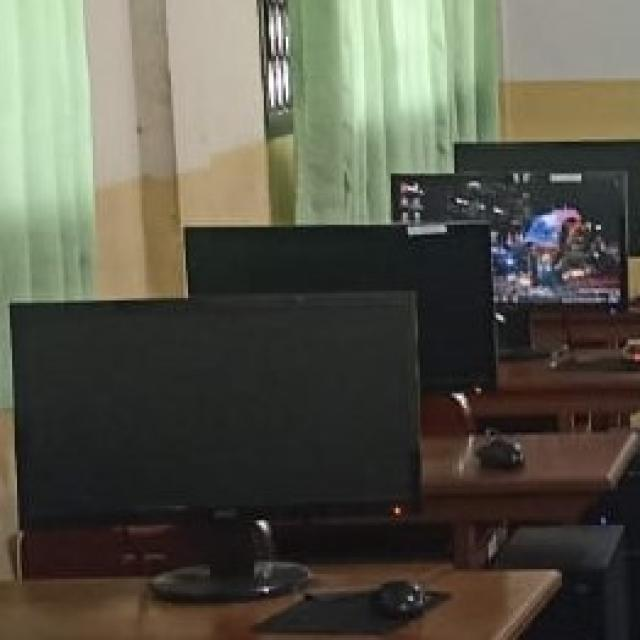offscreen: (13, 296, 415, 527), (186, 225, 495, 389), (393, 173, 624, 303)
